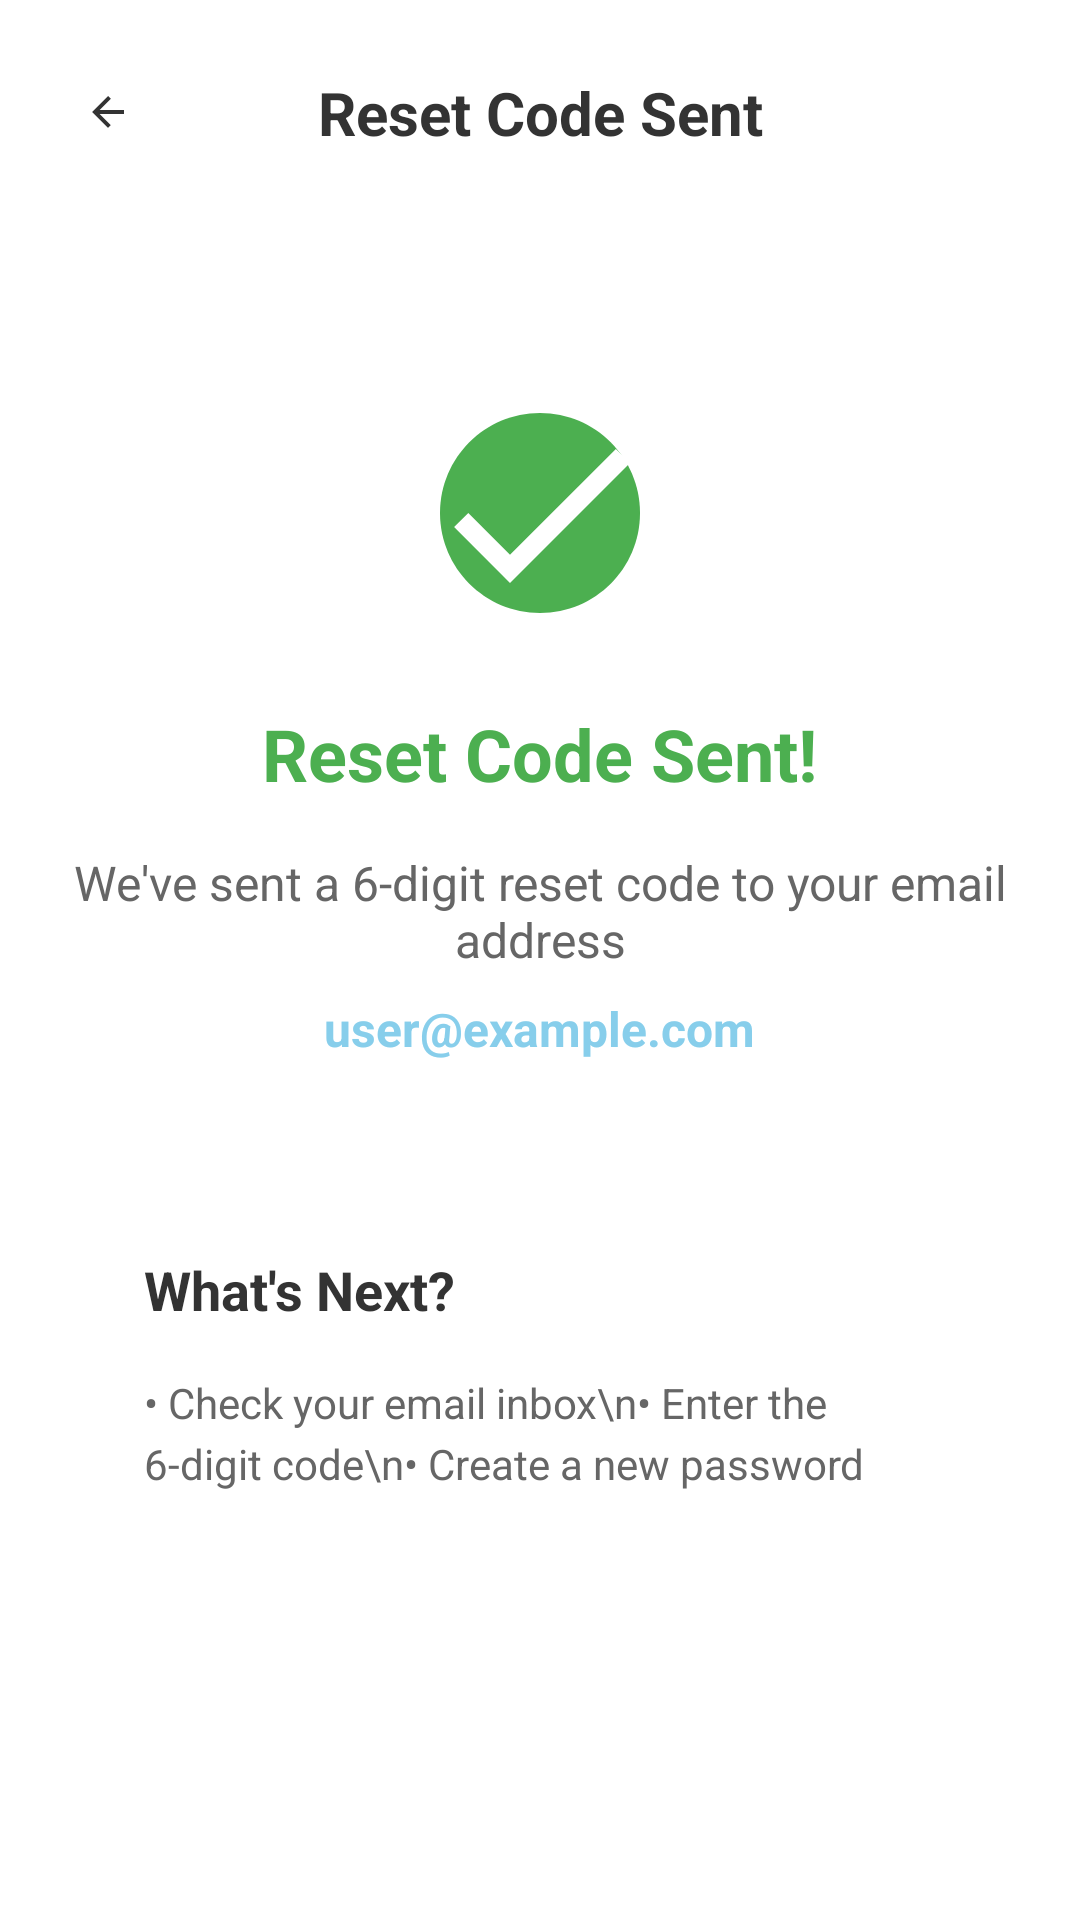

Icon click points for this 1080px×1920px phone screenshot, format (x,y):
Back: (108,112)
Success: (540,513)
